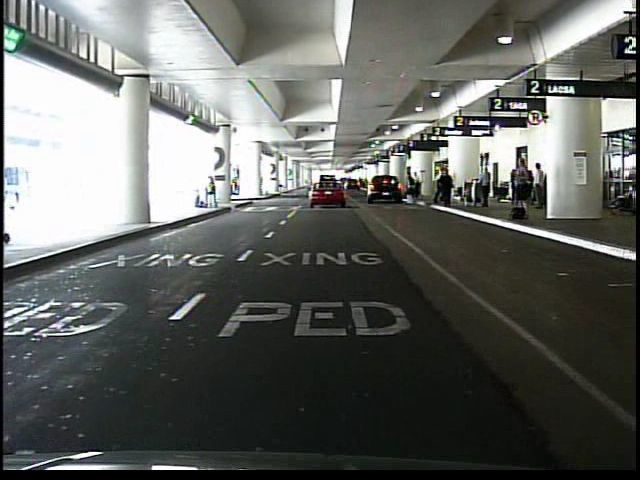person: (513, 157, 533, 210), (532, 161, 546, 210), (441, 169, 456, 208), (481, 165, 494, 209), (205, 173, 220, 210), (405, 168, 418, 204), (436, 167, 447, 204), (411, 170, 421, 198)
